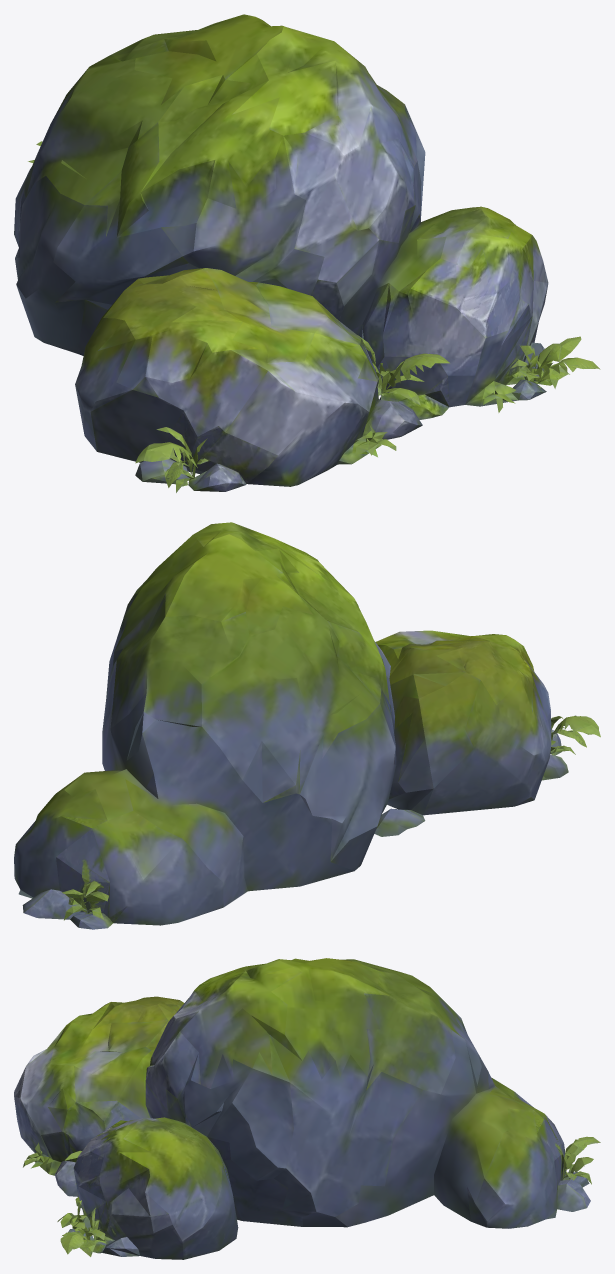
File: forest_rock.glb
The picture shows the model from 3 angles, top to bottom: view 1: azimuth 30°, elevation 25°; view 2: azimuth 150°, elevation 25°; view 3: azimuth 270°, elevation 25°; orthographic projection. The views are drawn at different scales.
Visible parts, largest first — view 1: output_unwrapped; view 2: output_unwrapped; view 3: output_unwrapped.
Boxes of the visible parts, x1=… form: output_unwrapped: x1=14, y1=14, x2=600, y2=492; output_unwrapped: x1=14, y1=522, x2=600, y2=929; output_unwrapped: x1=14, y1=958, x2=600, y2=1259.
Size of the model in its own units: 1.38 by 0.83 by 1.9.
1 material, 1 textured.
